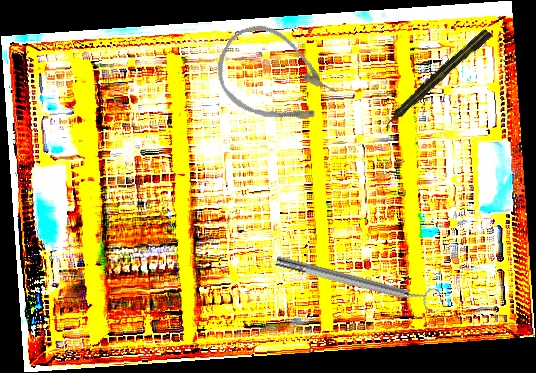Cannula: (202, 12, 349, 146)
Fixation Ring: (273, 246, 441, 316)
Handpiece: (378, 25, 495, 133)
